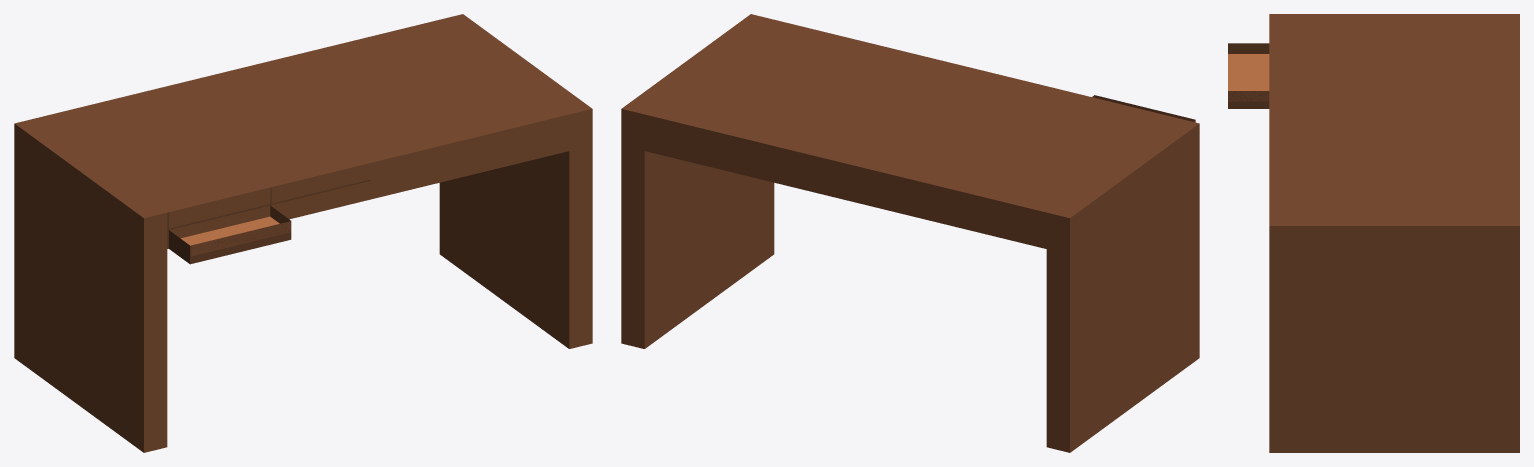
The model's file is schreibtisch.fbx.
3 views of the same model, side by side, from view 1: azimuth 30°, elevation 25°; view 2: azimuth 150°, elevation 25°; view 3: azimuth 270°, elevation 25° (orthographic). The views are drawn at different scales.
Visible parts, largest first — view 1: Cube.002; view 2: Cube.002; view 3: Cube.002.
Part boxes in pixels (x1,y1,x2,y2): Cube.002: (14, 14, 592, 452); Cube.002: (621, 14, 1199, 452); Cube.002: (1228, 14, 1519, 452).
Size of the model in its own units: 200 by 100 by 116.
